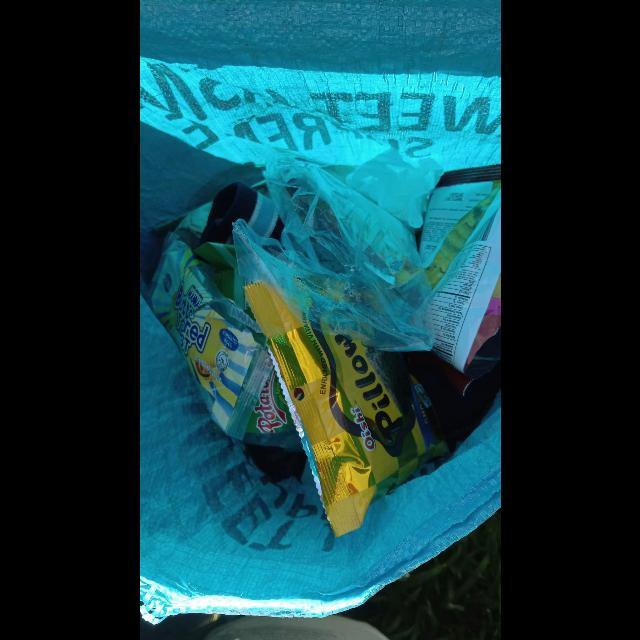food_wrapper: (243, 281, 448, 539), (150, 240, 272, 441), (419, 164, 501, 374), (242, 367, 305, 455)
